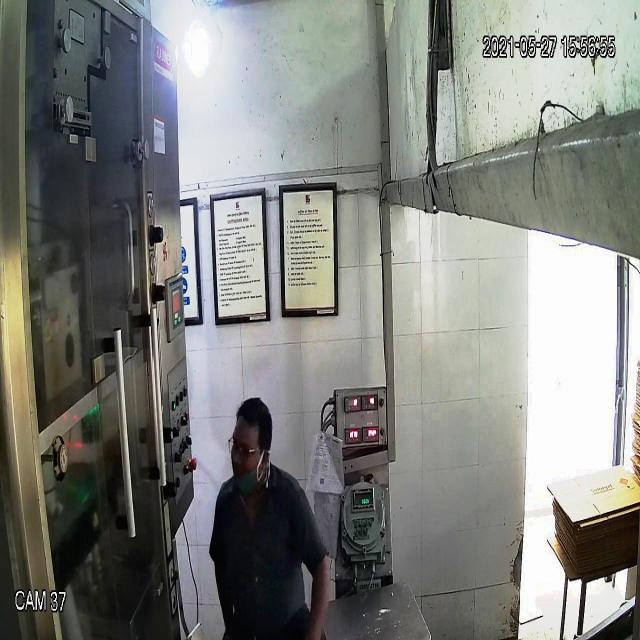glasses: (228, 434, 272, 463)
